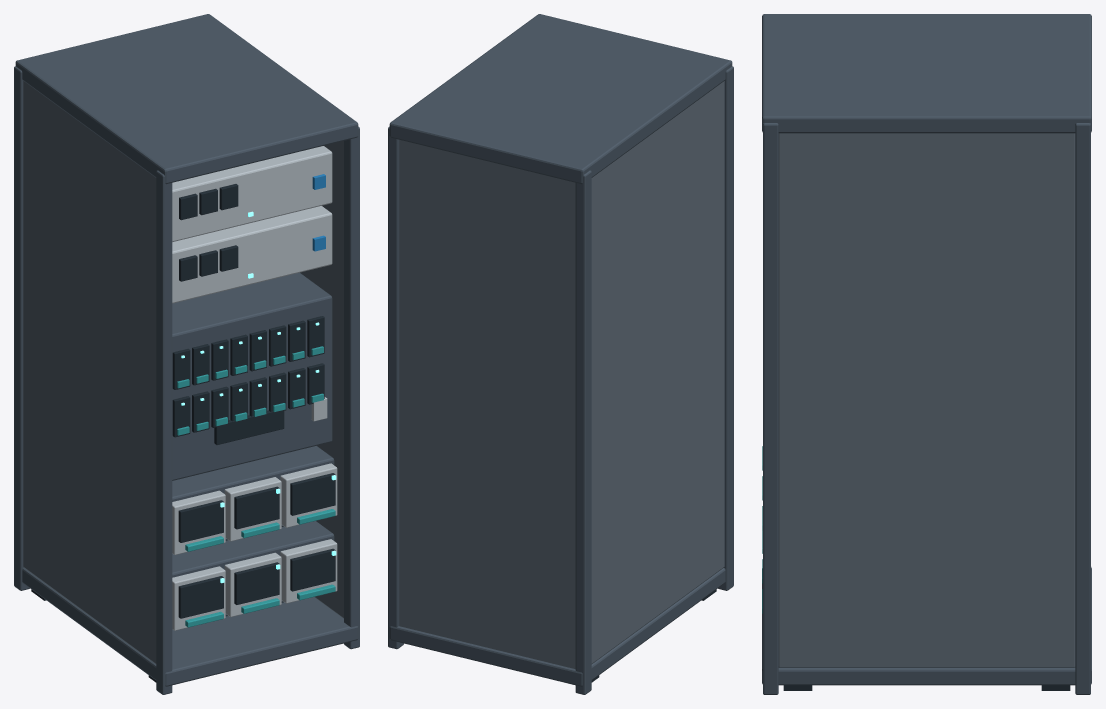
The model's file is backup-rack.glb.
3 views of the same model, side by side, from view 1: azimuth 30°, elevation 25°; view 2: azimuth 150°, elevation 25°; view 3: azimuth 270°, elevation 25° (orthographic). The views are drawn at different scales.
Parts seen in each view (by area): view 1: enclosure_Cabinet_panels.002, rack_frame_Graphite_steel.002, part_tape_library, part_backup_shelf_02, part_backup_shelf_01, part_backup_server_02, part_backup_server_01; view 2: enclosure_Cabinet_panels.002, rack_frame_Graphite_steel.002; view 3: enclosure_Cabinet_panels.002, rack_frame_Graphite_steel.002.
Part boxes in pixels (x1,y1,x2,y2): enclosure_Cabinet_panels.002: [23, 81, 343, 663]; rack_frame_Graphite_steel.002: [14, 14, 359, 694]; part_tape_library: [172, 272, 332, 480]; part_backup_shelf_02: [172, 521, 337, 630]; part_backup_shelf_01: [172, 446, 337, 554]; part_backup_server_02: [172, 206, 332, 303]; part_backup_server_01: [172, 146, 332, 241]; enclosure_Cabinet_panels.002: [399, 81, 724, 668]; rack_frame_Graphite_steel.002: [388, 14, 733, 694]; enclosure_Cabinet_panels.002: [778, 133, 1075, 667]; rack_frame_Graphite_steel.002: [762, 14, 1091, 694].
Size of the model in its own units: 0.875 by 2.22 by 1.15.
